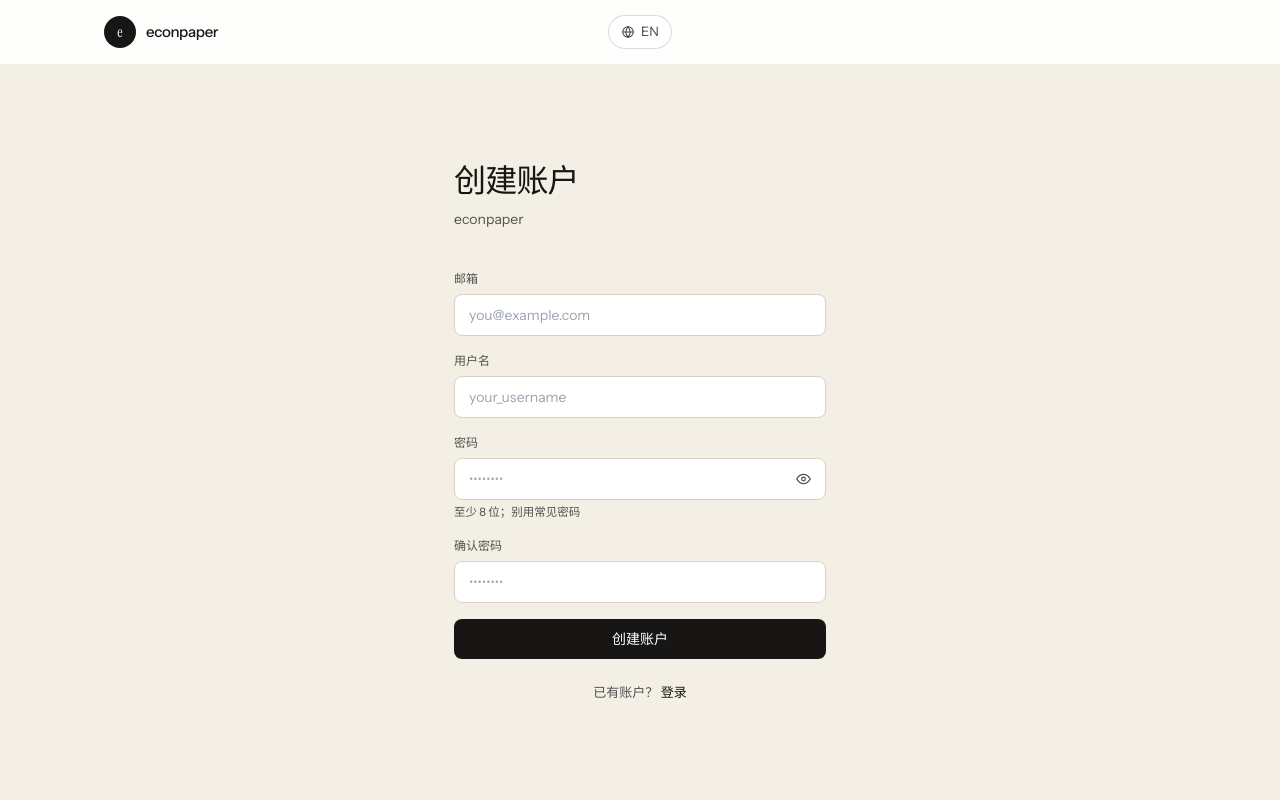
Test case: RegisterPage › shows error message when registration fails
This screenshot has width=1280, height=800.
Type "test@example.com" into the field labelled "邮箱".
click(640, 315); type("test@example.com")  # box 454,294 -> 826,336
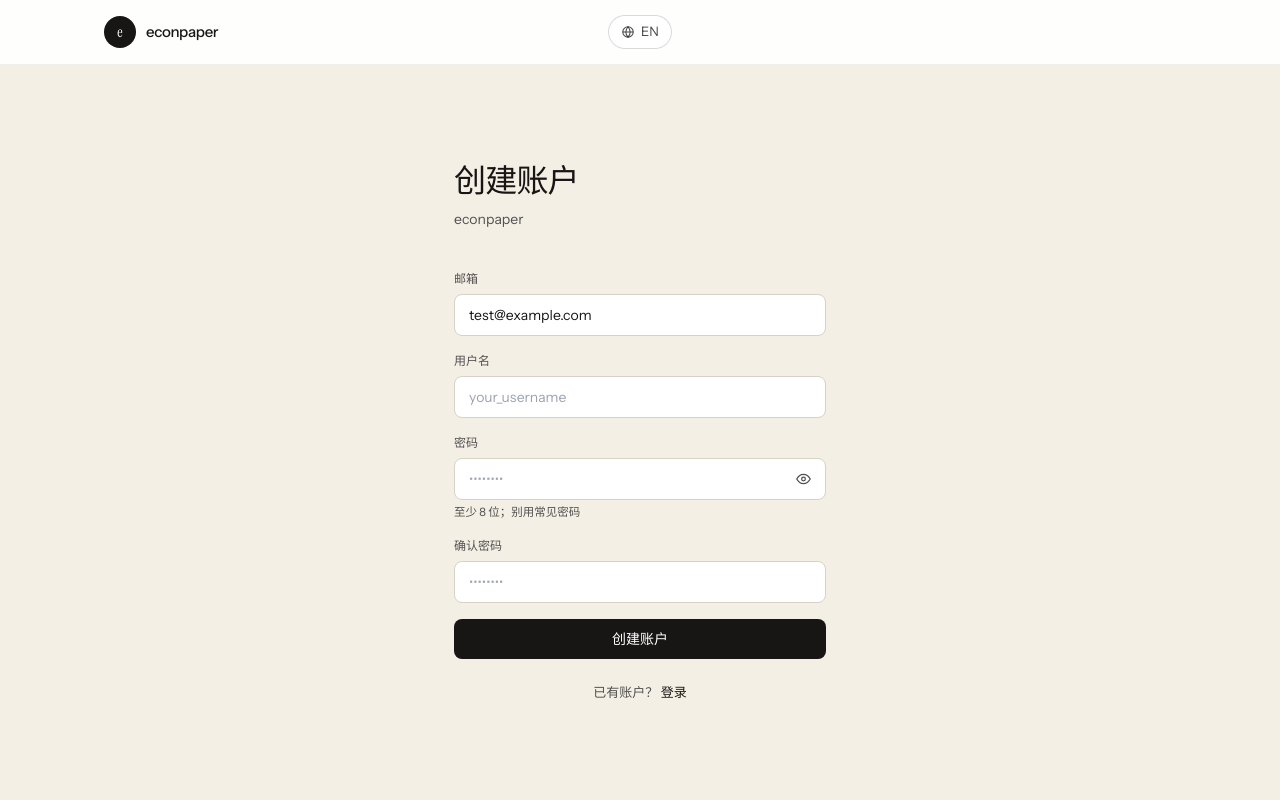
Type "testuser" into the field labelled "用户名".
click(640, 397); type("testuser")  # box 454,376 -> 826,418
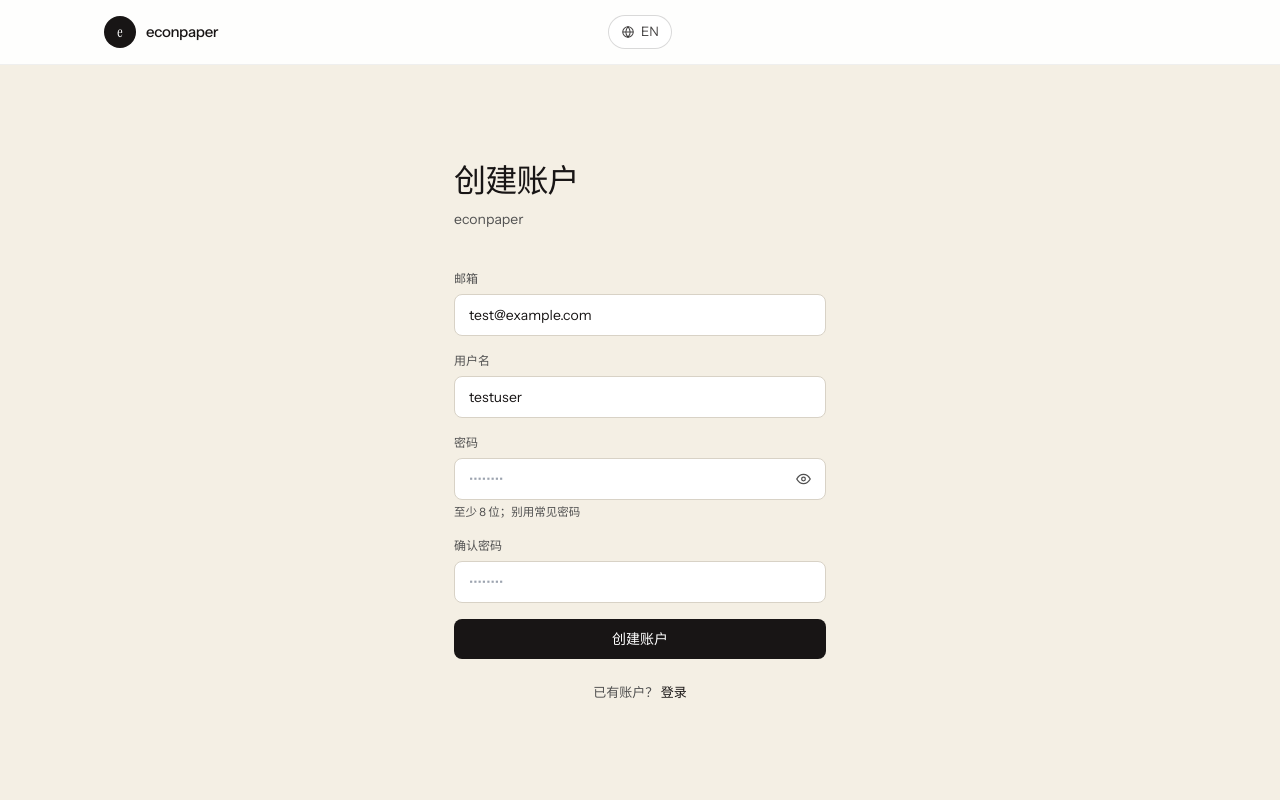
Type "secret123" into the password field labelled "密码".
click(640, 479); type("secret123")  # box 454,458 -> 826,500
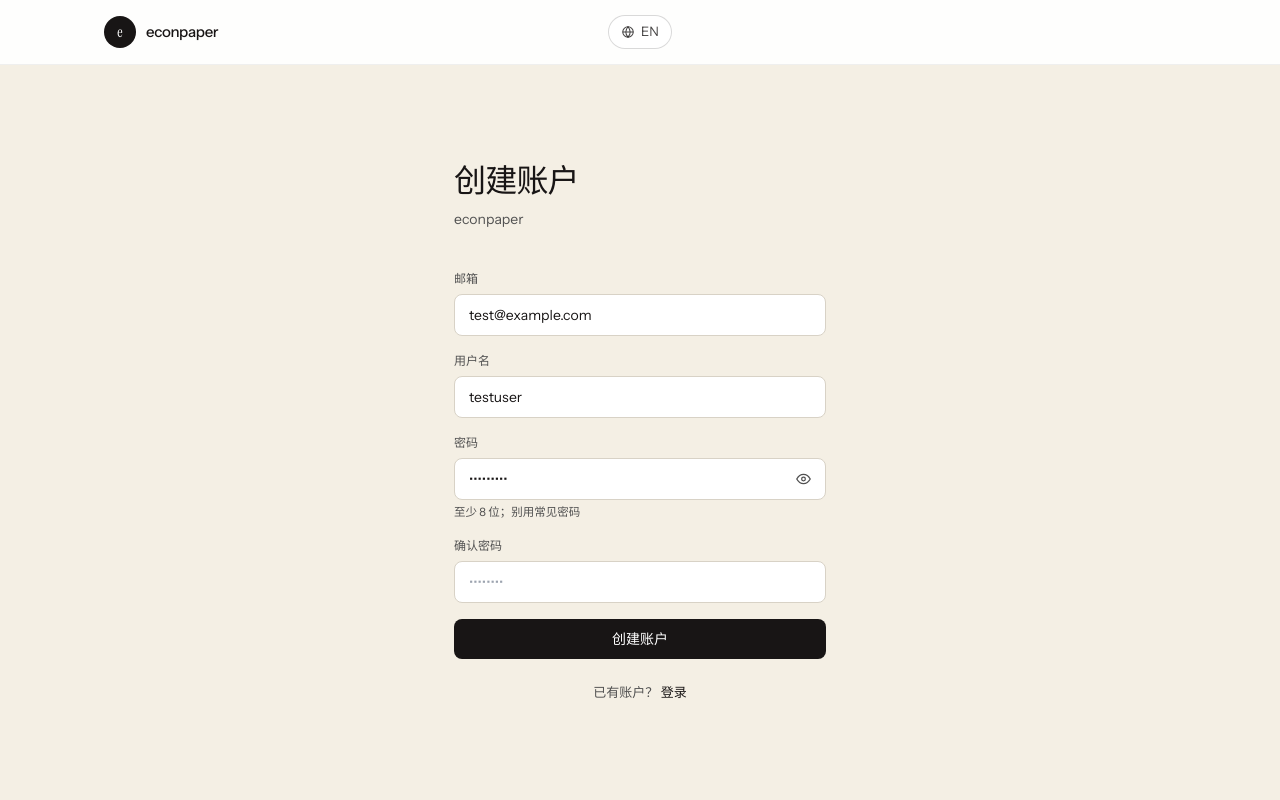
Type "secret123" into the password field labelled "确认密码".
click(640, 582); type("secret123")  # box 454,561 -> 826,603
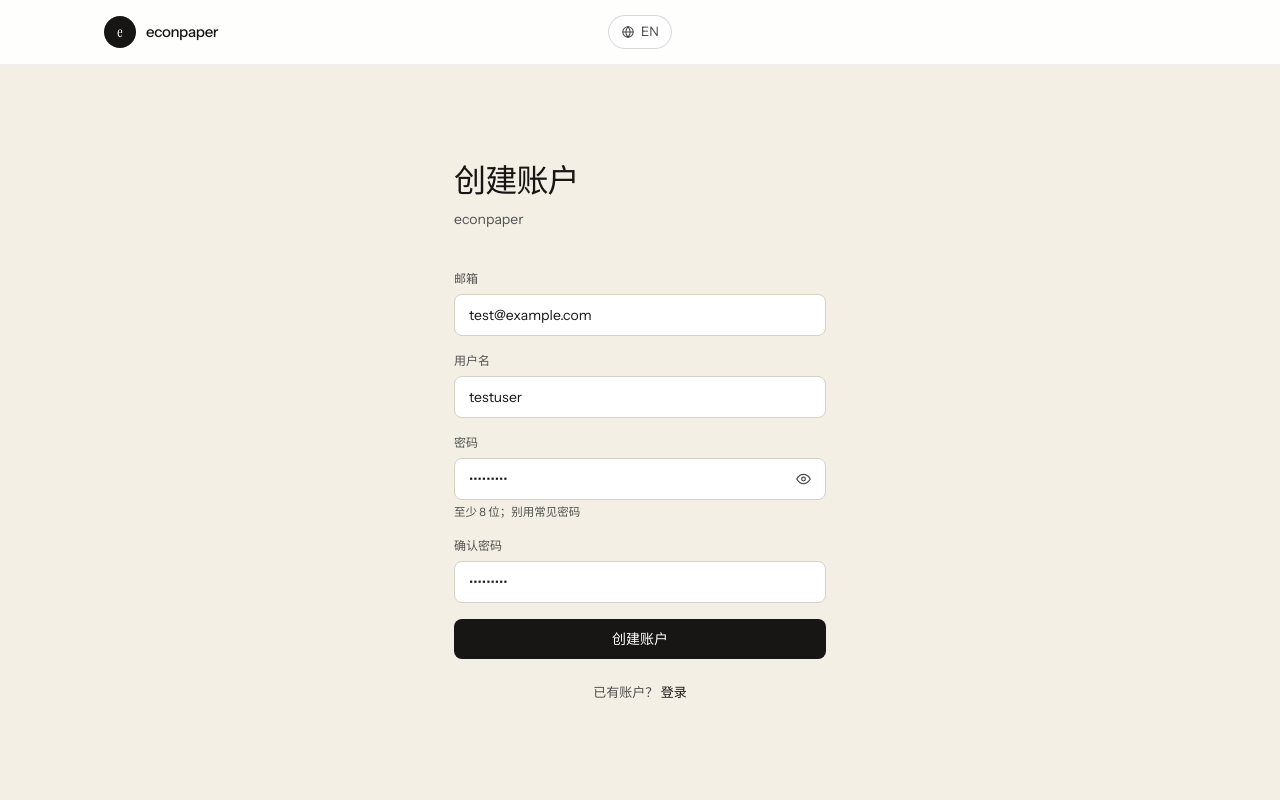
Click the button "创建账户".
click(640, 639)  # box 454,619 -> 826,659
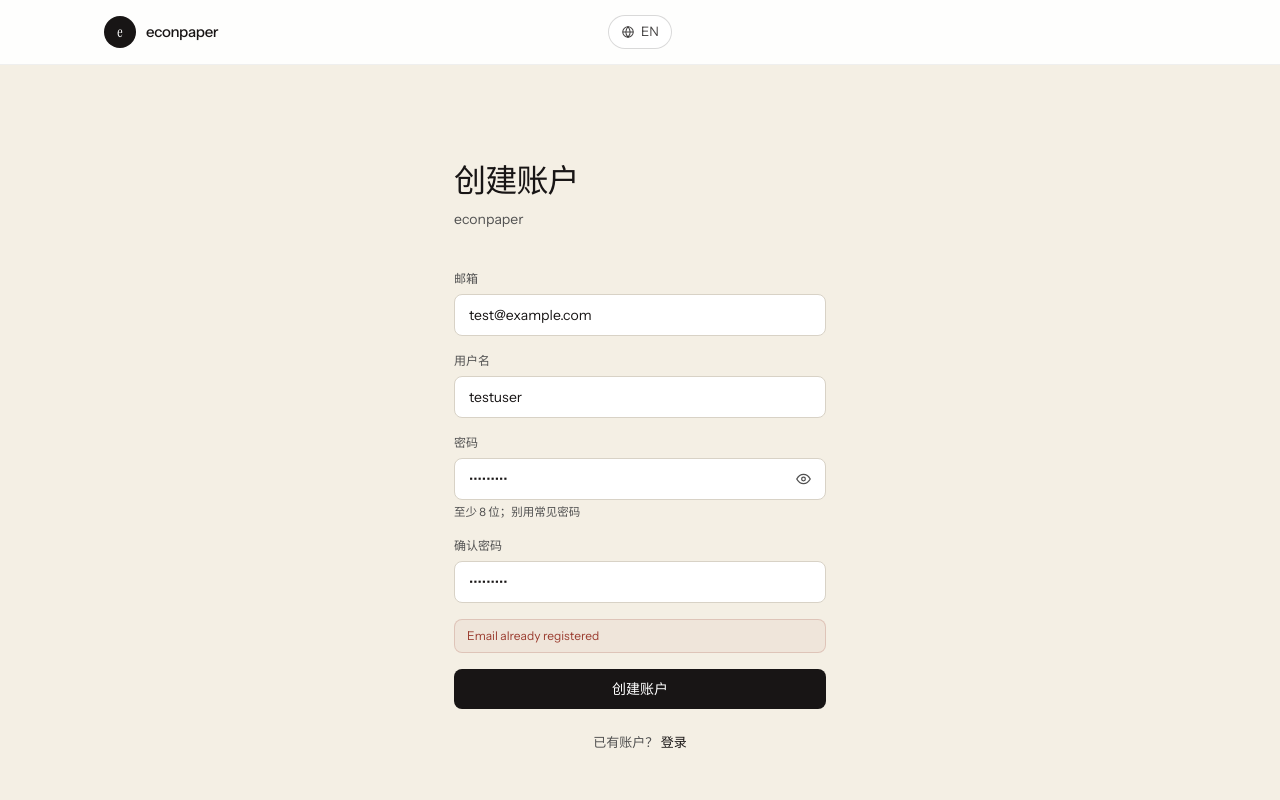
Now the text "Email already registered" is shown, box 454,619 -> 826,653
